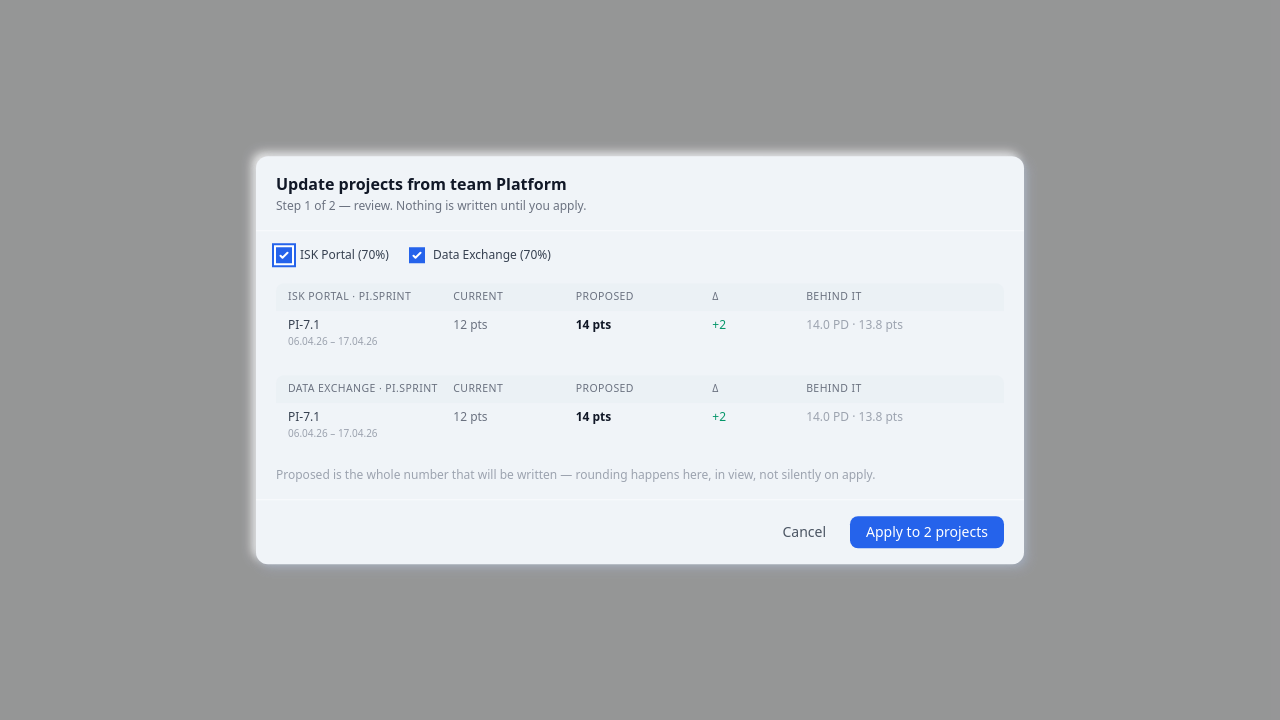
it: PushProjectsModal › applies only the ticked project when the selection is narrowed
Step 1. Click the checkbox labelled "Data Exchange (70%)" → (417, 255), box [409,247,425,263]
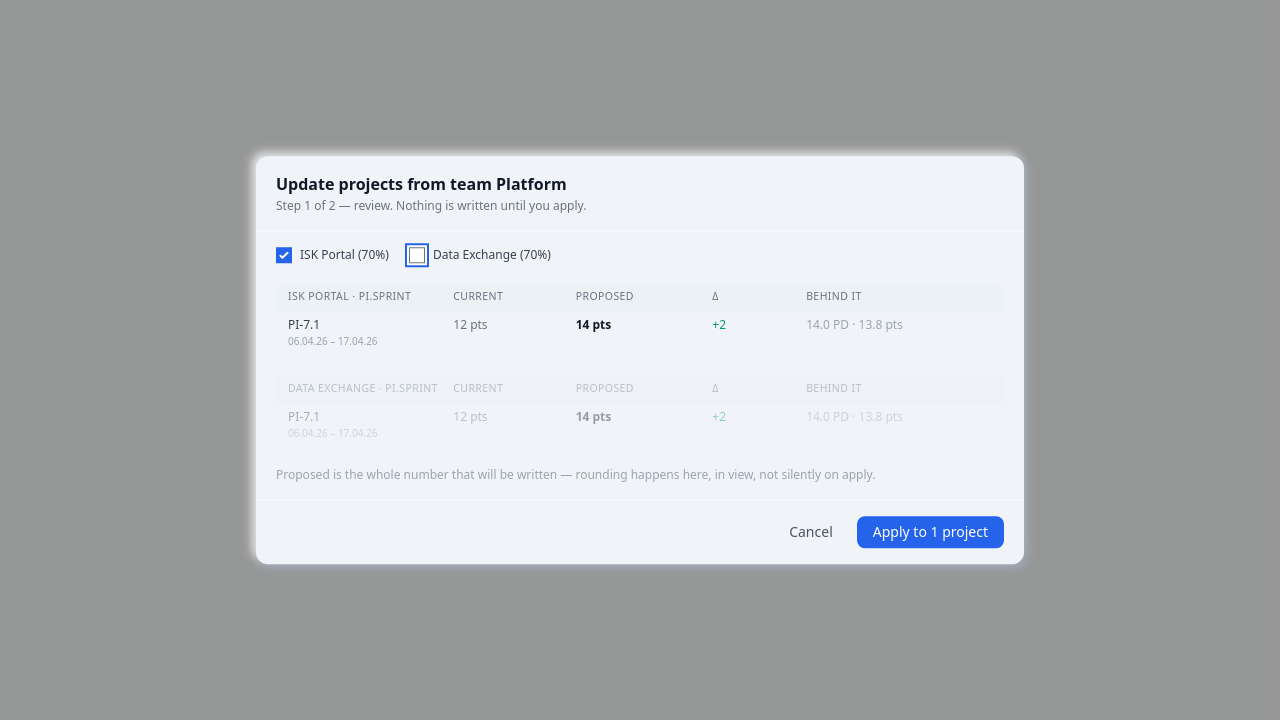
Step 2. Click the button "Apply to 1 project" → (930, 532), box [857,516,1004,548]
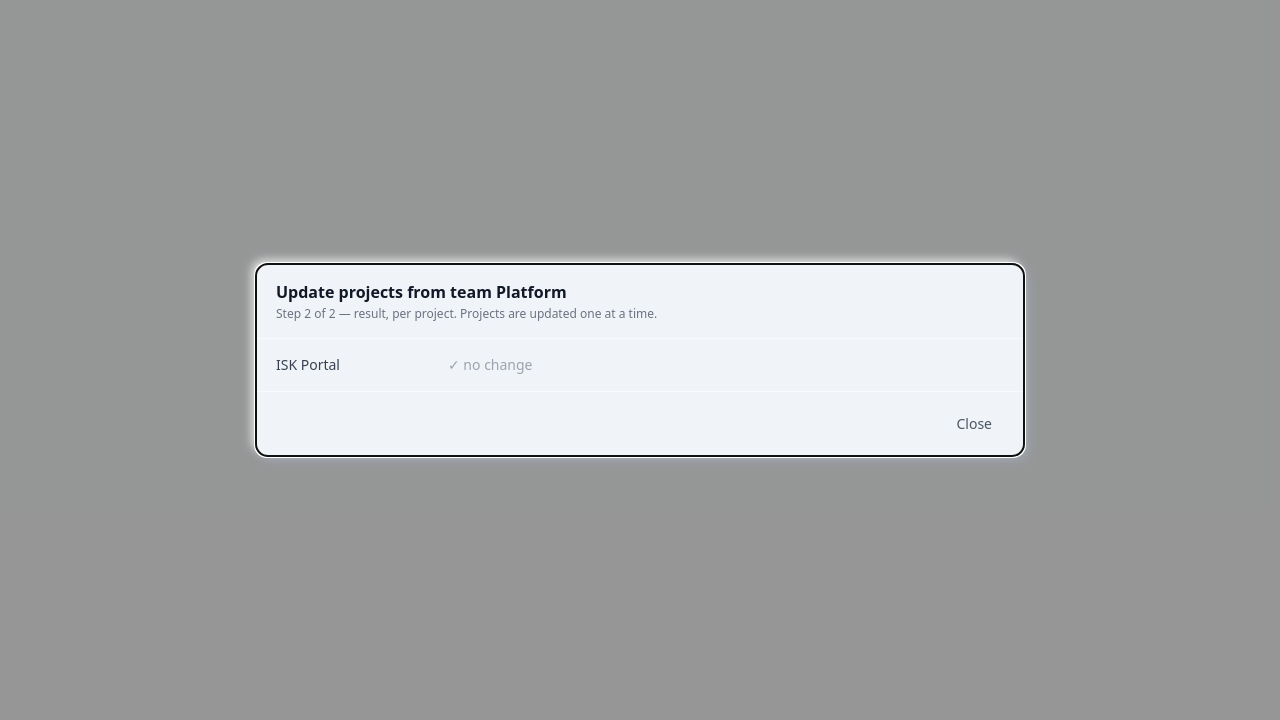
Check: the text "✓ no change" is shown, box [448,355,532,375]
